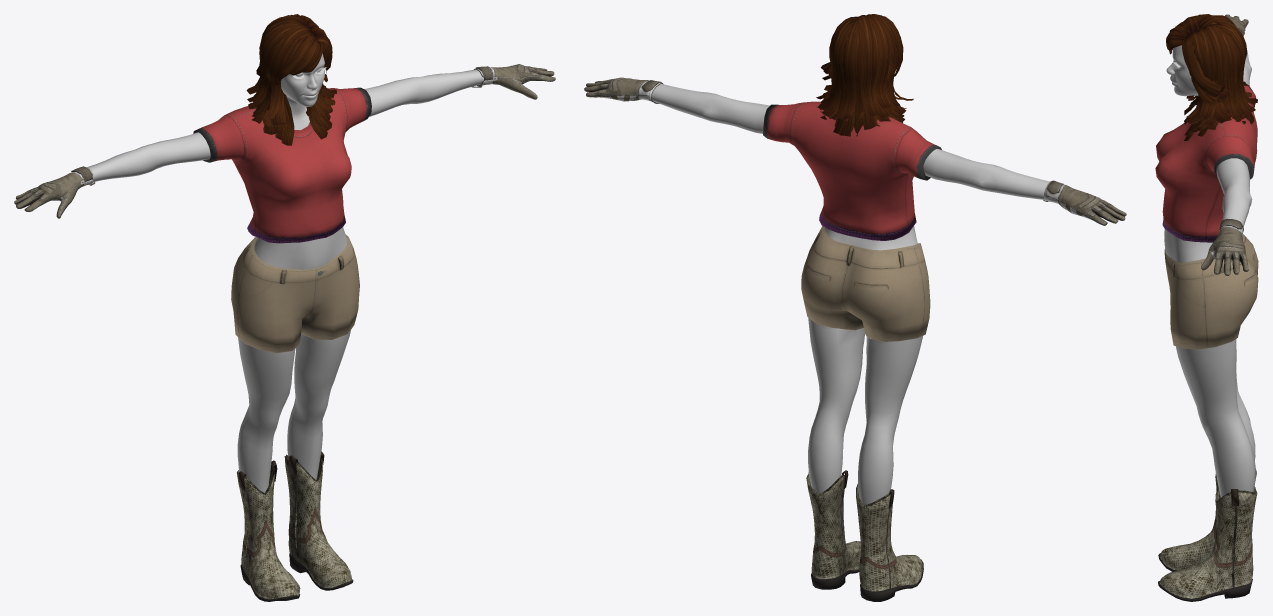
The picture shows the model from 3 angles, left to right: view 1: azimuth 30°, elevation 25°; view 2: azimuth 150°, elevation 25°; view 3: azimuth 270°, elevation 25°; orthographic projection.
Visible parts, largest first — view 1: Body, Tops, Bottoms, Shoes, Hair, Gloves; view 2: Body, Tops, Bottoms, Shoes, Hair, Gloves; view 3: Body, Tops, Shoes, Hair, Bottoms, Gloves.
Part boxes in pixels (x1=…): Body: x1=83, y1=53, x2=494, y2=492; Tops: x1=193, y1=87, x2=371, y2=243; Bottoms: x1=231, y1=234, x2=359, y2=353; Shoes: x1=237, y1=451, x2=353, y2=601; Hair: x1=246, y1=14, x2=336, y2=145; Gloves: x1=14, y1=64, x2=555, y2=218; Body: x1=643, y1=83, x2=1049, y2=504; Tops: x1=763, y1=101, x2=941, y2=240; Bottoms: x1=801, y1=226, x2=930, y2=341; Shoes: x1=806, y1=470, x2=923, y2=601; Hair: x1=816, y1=14, x2=913, y2=136; Gloves: x1=584, y1=77, x2=1126, y2=225; Body: x1=1164, y1=45, x2=1255, y2=497; Tops: x1=1155, y1=84, x2=1257, y2=242; Shoes: x1=1158, y1=468, x2=1257, y2=601; Hair: x1=1166, y1=14, x2=1257, y2=140; Bottoms: x1=1164, y1=234, x2=1258, y2=349; Gloves: x1=1201, y1=14, x2=1248, y2=275.
Bounding box in the file's own units: 179 × 180 × 29.82.
